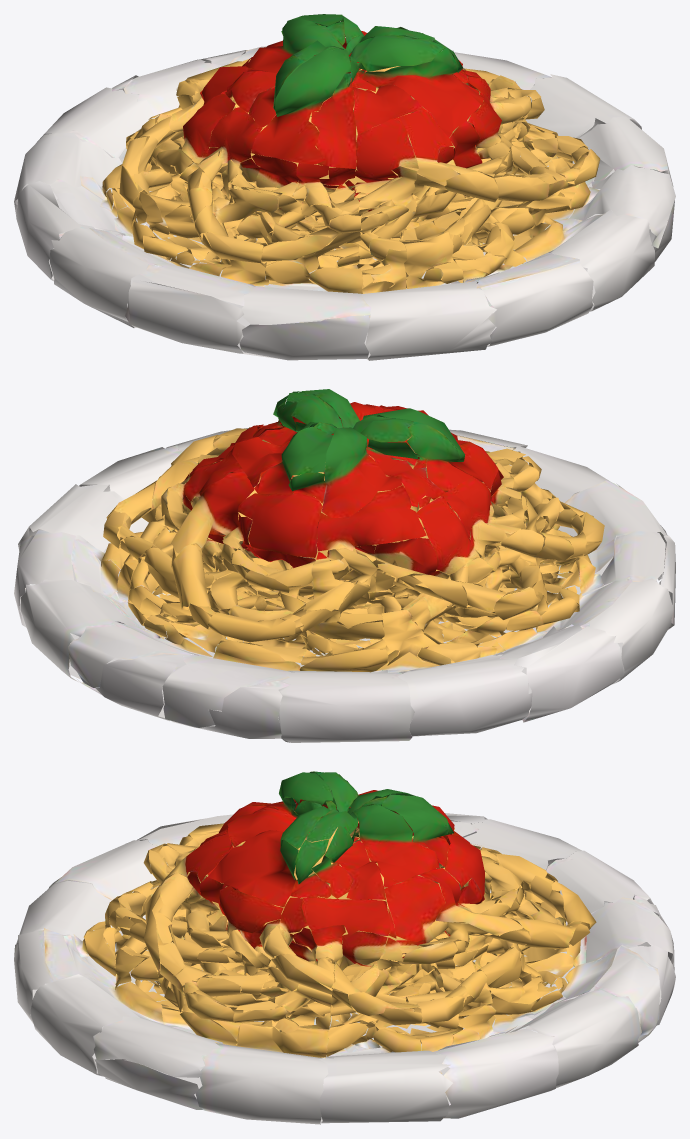
The model's file is spaghetti.glb.
3 renders of one model, top to bottom at view 1: azimuth 30°, elevation 25°; view 2: azimuth 150°, elevation 25°; view 3: azimuth 270°, elevation 25°, orthographic.
Visible parts, largest first — view 1: Mesh_0; view 2: Mesh_0; view 3: Mesh_0.
Boxes of the visible parts, box(x1,y1,x2,y2) form: Mesh_0: box(14, 14, 675, 360); Mesh_0: box(14, 389, 675, 742); Mesh_0: box(14, 771, 675, 1124).
Bounding box in the file's own units: 0.9992 × 0.3285 × 1.
1 material, 1 textured.
